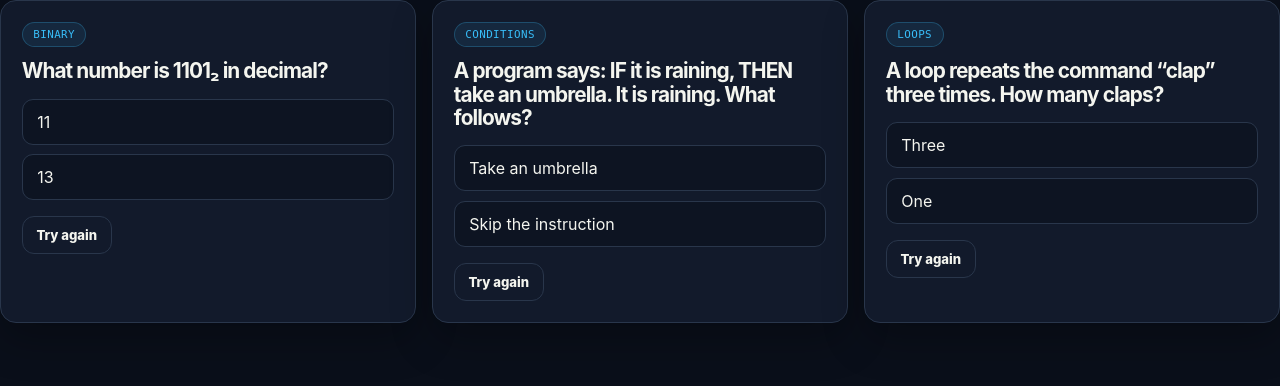
Test case: CodingChallenges › resets when Try again is clicked
The image size is (1280, 386).
What coordinates should you click on to do the following:
click the button "11"
I would click on:
 (44, 122)
Its box is [22, 99, 394, 145].
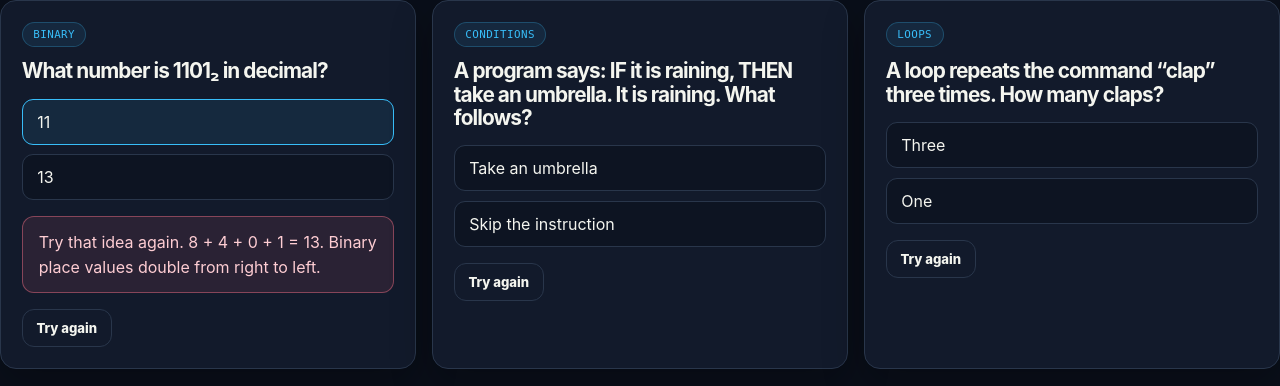
Check: the message is shown, box [22, 216, 394, 294]
What coordinates should you click on to do the following:
click the button "Try again" below "Try that idea again."
I would click on:
 (67, 328)
Its box is [22, 310, 112, 348].
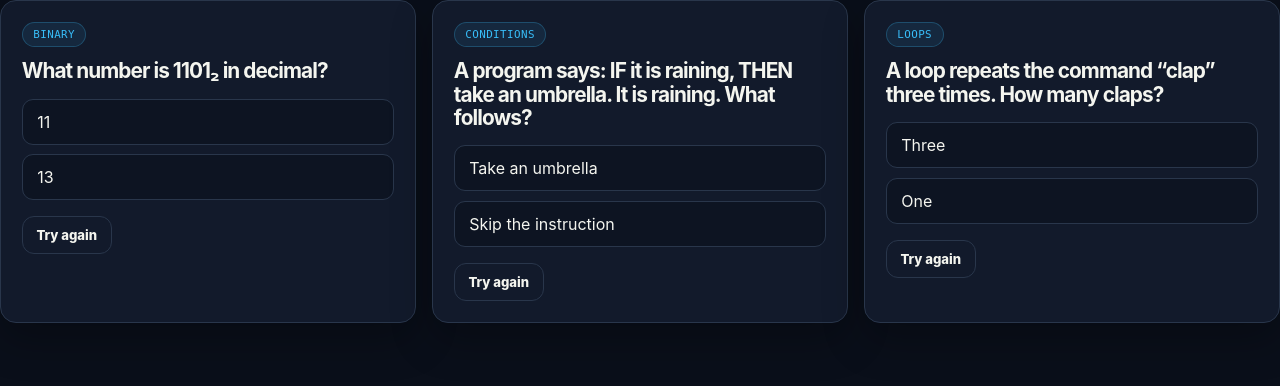
Check: the message is gone
